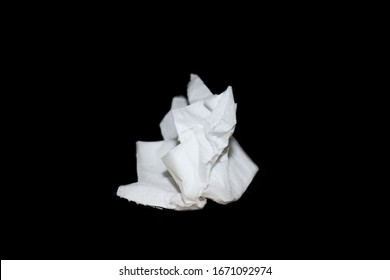Tissue: (112, 70, 262, 213)
